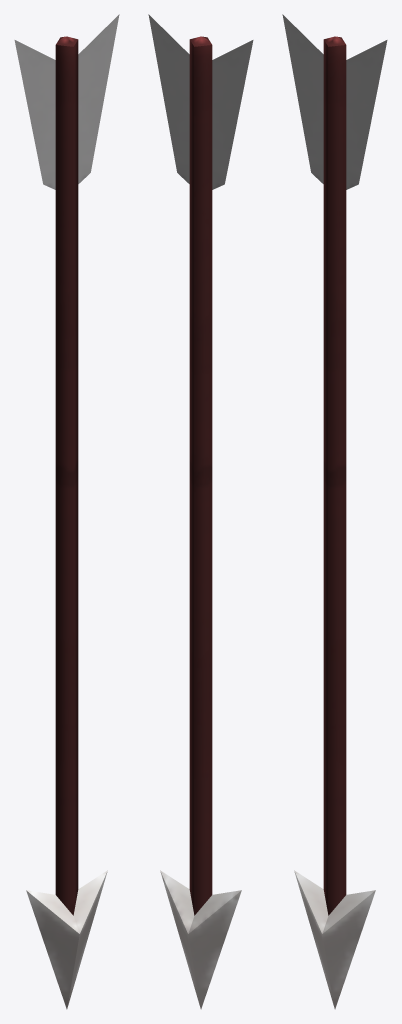
The model's file is Arrow.fbx.
3 views of the same model, side by side, from view 1: azimuth 30°, elevation 25°; view 2: azimuth 150°, elevation 25°; view 3: azimuth 330°, elevation 25° (orthographic).
Visible parts, largest first — view 1: Arrow; view 2: Arrow; view 3: Arrow.
Boxes of the visible parts, x1=… form: Arrow: x1=14, y1=14, x2=119, y2=1009; Arrow: x1=148, y1=14, x2=253, y2=1009; Arrow: x1=282, y1=14, x2=387, y2=1009.
Bounding box in the file's own units: 8.31 × 74.27 × 3.5.
